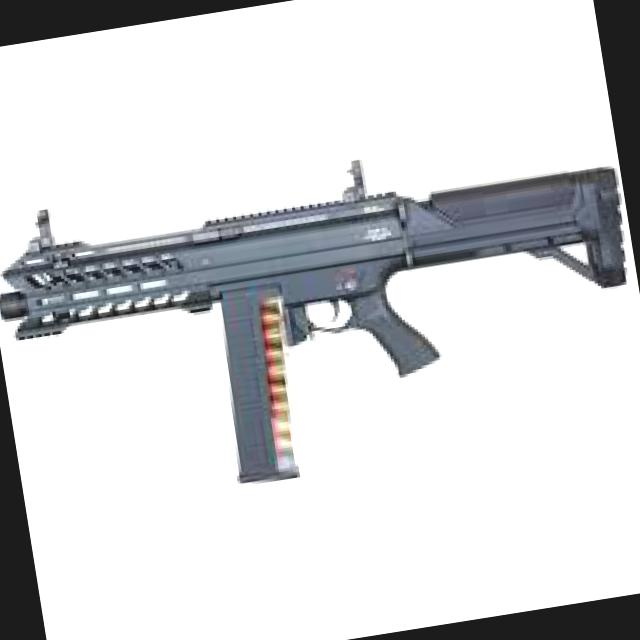long weapon: (0, 147, 640, 443)
